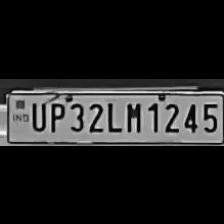1: (144, 99, 160, 133)
2: (160, 99, 180, 133), (86, 98, 104, 132)
3: (65, 98, 84, 132)
4: (180, 98, 198, 132)
5: (199, 98, 219, 132)
L: (104, 98, 122, 132)
M: (122, 97, 142, 132)
P: (46, 98, 66, 132)
U: (27, 97, 46, 130)
